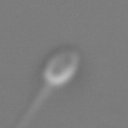normal: (9, 83, 51, 128)
